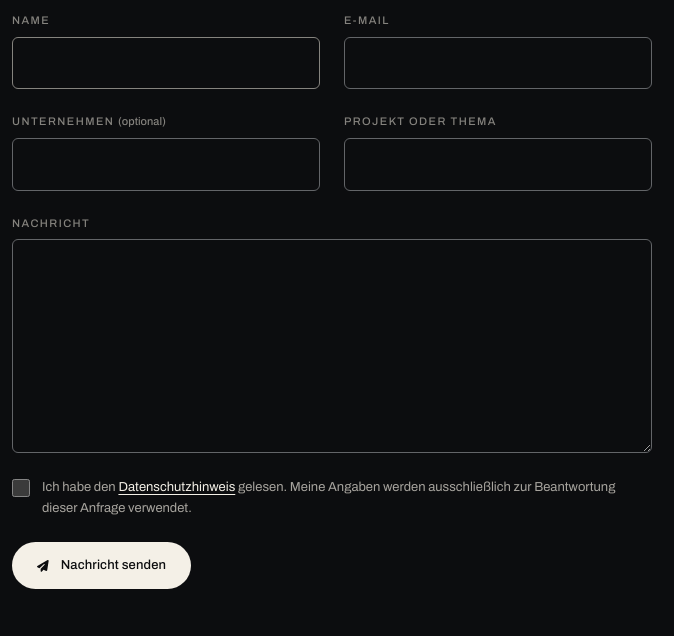
Test case: Kontaktformular › übernimmt feldbezogene Fehler des Servers
Step 1. Type "Anna Beispiel" into the field labelled "Name" → x=166, y=63, box [12,36,320,89]
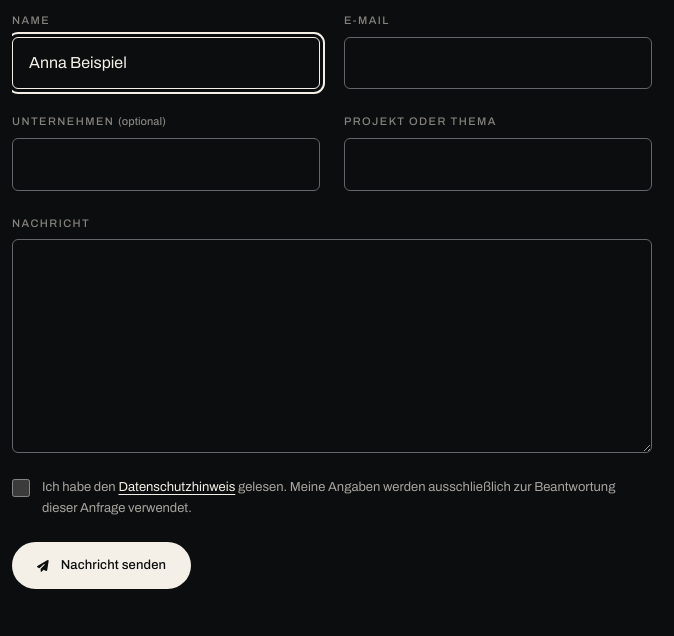
Step 2. Type "anna@example.com" into the field labelled "E-Mail" → x=498, y=63, box [344,36,652,89]
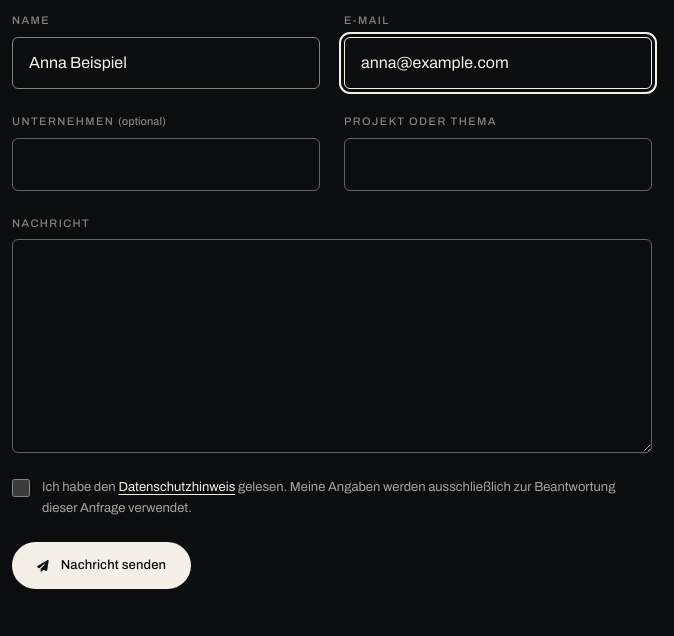
Step 3. Type "Individuelle Webanwendung" into the field labelled "Projekt oder Thema" → x=498, y=164, box [344,138,652,191]
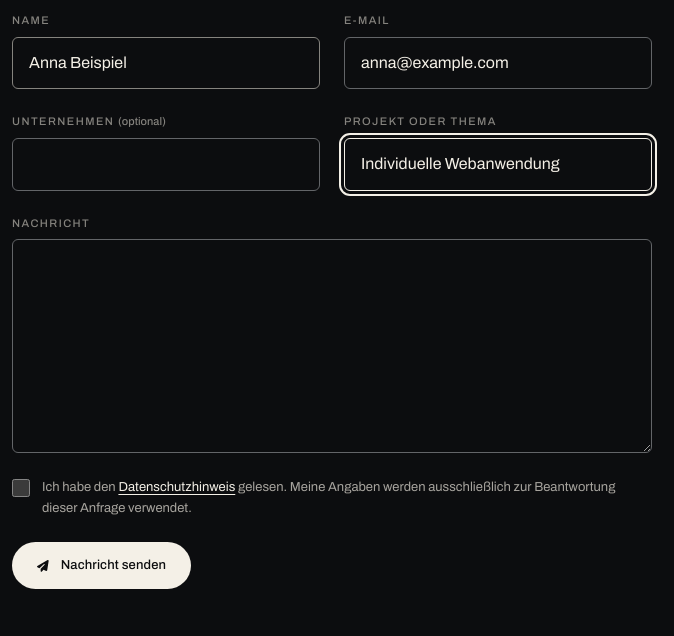
Step 4. Type "Wir suchen Verstärkung im Produktteam und würden uns gern austauschen." into the text box labelled "Nachricht" → x=332, y=346, box [12,239,652,453]
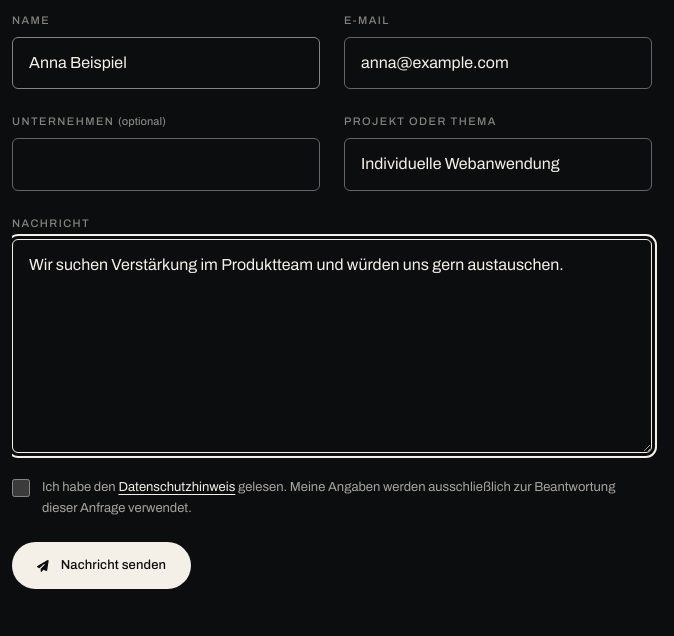
Step 5. Click the checkbox labelled "Datenschutzhinweis" → x=21, y=488, box [12,479,30,497]
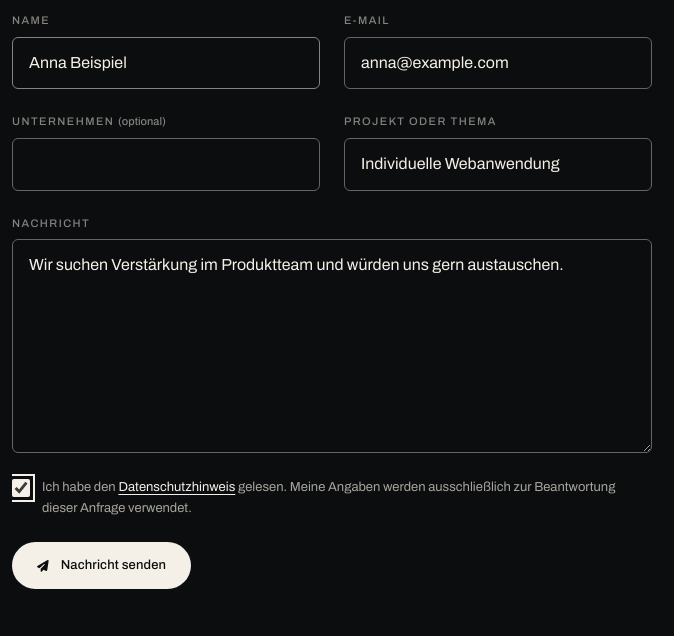
Step 6. Click the button "Nachricht senden" → x=102, y=566, box [12,542,191,590]
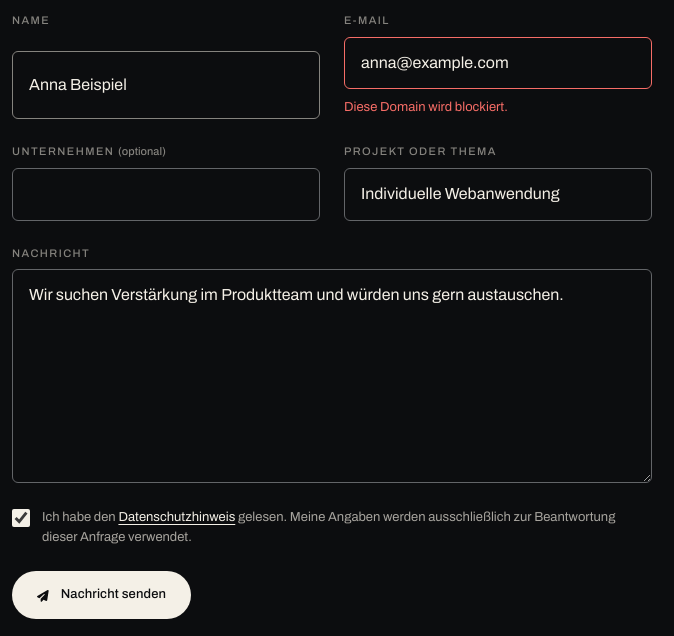
Expected: the text "Diese Domain wird blockiert." is shown, [344,100,508,114]
